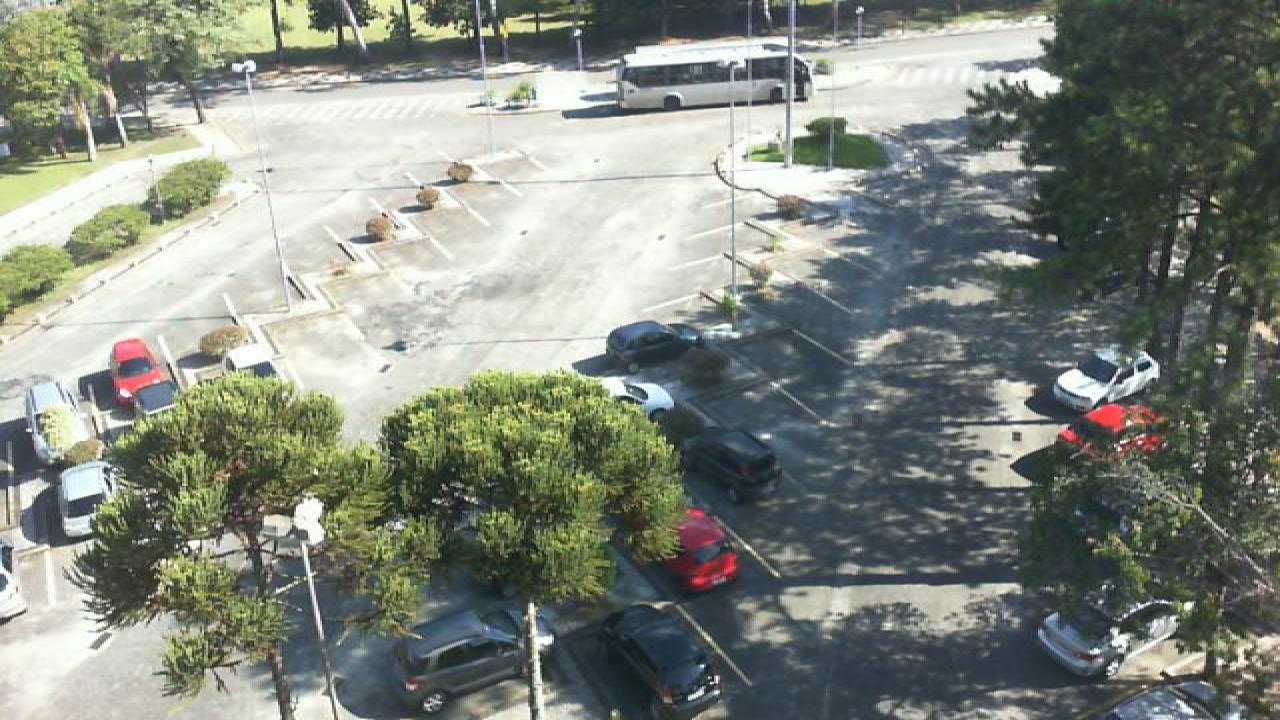Car: (394, 609, 548, 703), (1034, 594, 1198, 680), (604, 603, 724, 720), (640, 506, 740, 593), (676, 424, 782, 504), (1052, 348, 1164, 415), (1054, 402, 1170, 461), (1064, 679, 1220, 720), (52, 458, 120, 544), (24, 378, 88, 467), (108, 338, 178, 417), (604, 318, 700, 369), (604, 374, 676, 422), (0, 539, 30, 621)
